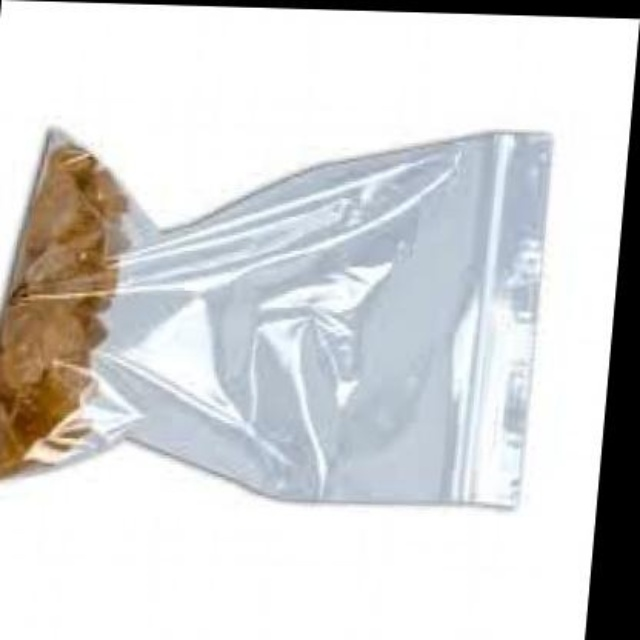trash: (0, 132, 551, 506)
